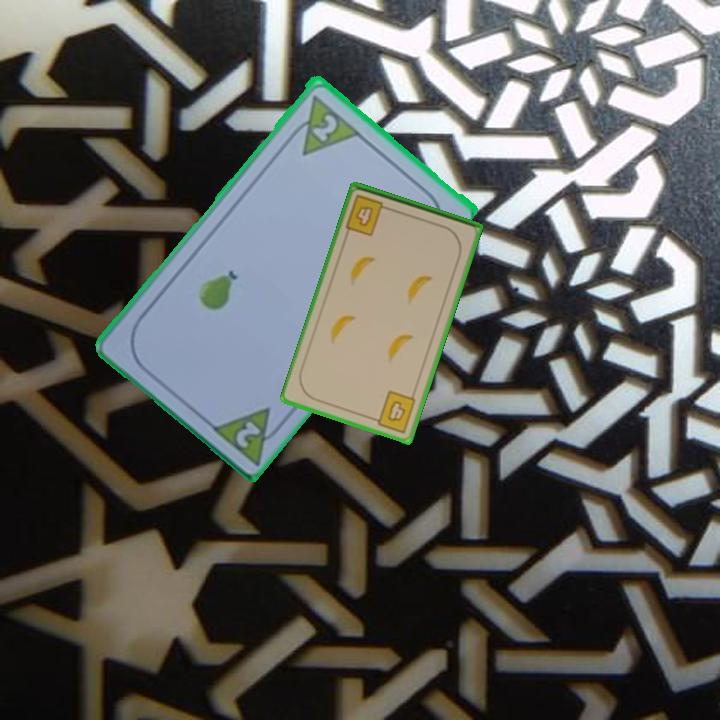2p: (283, 90, 361, 158), (231, 416, 264, 451)
4b: (368, 387, 419, 436), (342, 191, 394, 239)
